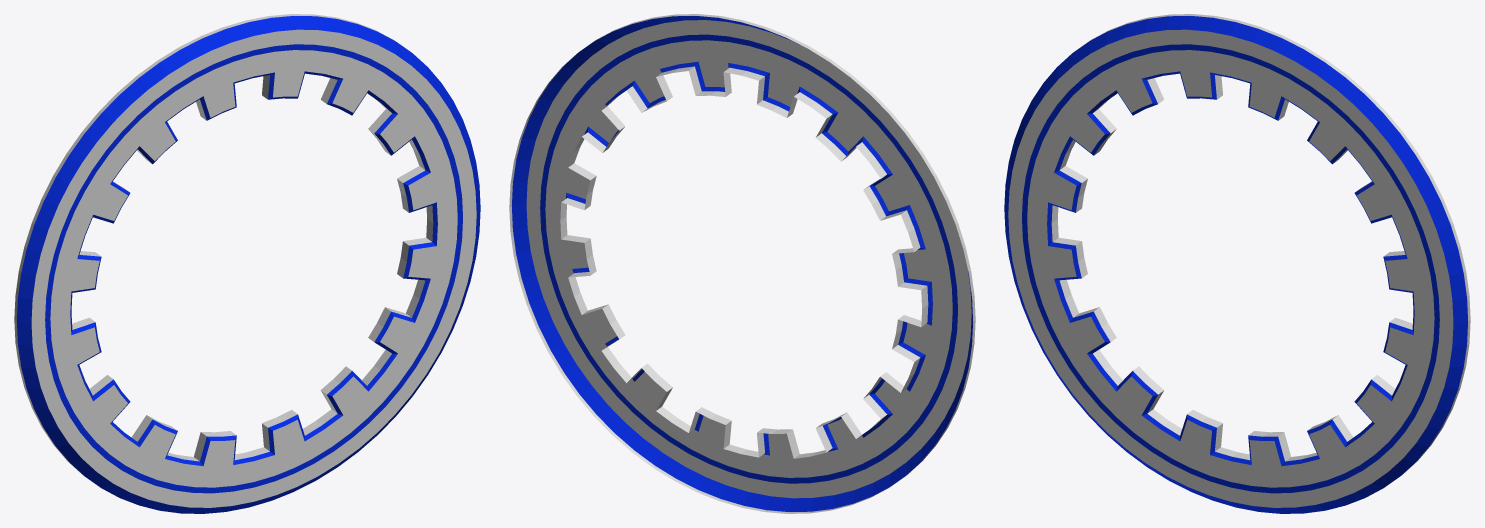
The model's file is ringRack.fbx.
3 renders of one model, left to right at view 1: azimuth 30°, elevation 25°; view 2: azimuth 150°, elevation 25°; view 3: azimuth 330°, elevation 25°, orthographic.
Visible parts, largest first — view 1: Ring; view 2: Ring; view 3: Ring.
Part boxes in pixels (x1,y1,x2,y2): Ring: (14, 14, 480, 513); Ring: (509, 14, 975, 513); Ring: (1004, 14, 1470, 513).
Size of the model in its own units: 1362 by 1362 by 40.
